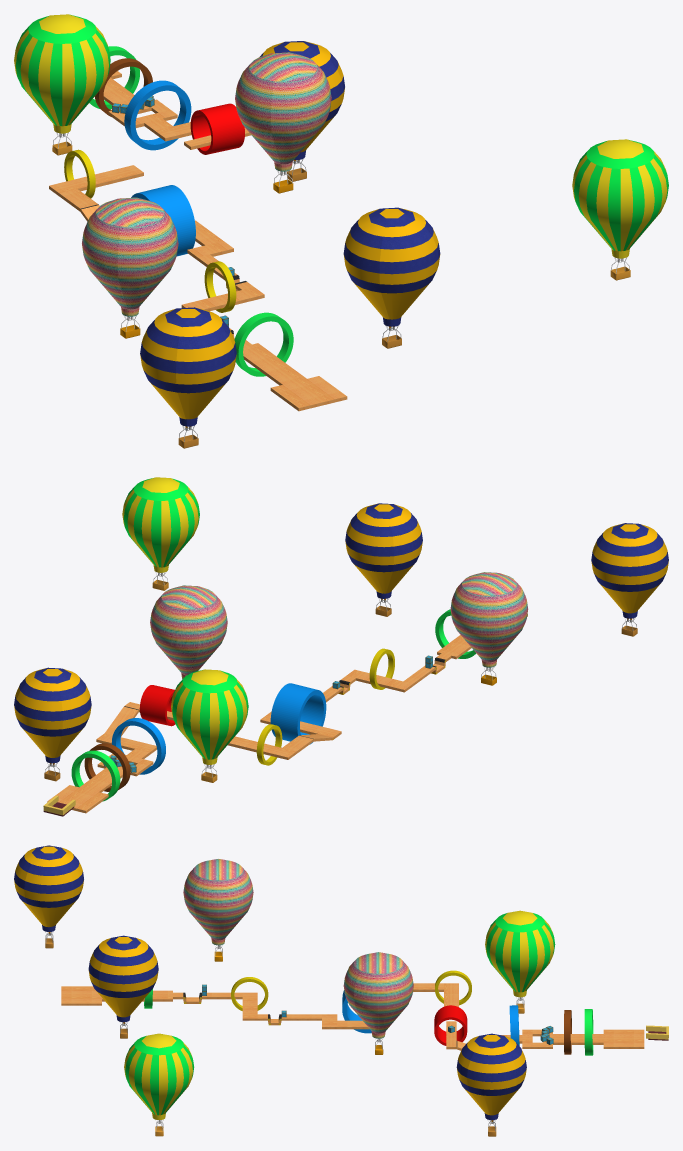
The model's file is LEVEL 9.fbx.
The picture shows the model from 3 angles, top to bottom: view 1: azimuth 30°, elevation 25°; view 2: azimuth 150°, elevation 25°; view 3: azimuth 270°, elevation 25°; orthographic projection. The views are drawn at different scales.
Visible parts, largest first — view 1: Floors_Combined, ballon_3, ballon_2, ballon_5, ballon_1, ballon_4, ballon, ballon_6, red_ring, blue_ring__1_, blue_ring, green_ring (+3 smaller); view 2: Floors_Combined, ballon_6, ballon, ballon_5, ballon_2, ballon_1, ballon_3, ballon_4, blue_ring__1_, red_ring, blue_ring, green_ring__1_ (+3 smaller); view 3: Floors_Combined, ballon, ballon_2, ballon_3, ballon_6, ballon_1, ballon_4, ballon_5, red_ring, green_ring__1_.
Part boxes in pixels (x1,y1,x2,y2): Floors_Combined: (49, 71, 347, 411); ballon_3: (82, 197, 178, 338); ballon_2: (572, 139, 668, 280); ballon_5: (14, 14, 110, 155); ballon_1: (343, 207, 440, 348); ballon_4: (235, 52, 331, 193); ballon: (140, 307, 236, 448); ballon_6: (260, 41, 344, 181); red_ring: (190, 103, 244, 154); blue_ring__1_: (131, 185, 195, 256); blue_ring: (124, 80, 191, 150); green_ring: (234, 312, 293, 376); Floors_Combined: (47, 614, 527, 813); ballon_6: (14, 667, 91, 781); ballon: (591, 523, 668, 636); ballon_5: (171, 669, 248, 782); ballon_2: (122, 477, 199, 590); ballon_1: (345, 503, 422, 616); ballon_3: (450, 572, 528, 685); ballon_4: (150, 585, 227, 678); blue_ring__1_: (270, 683, 326, 744); red_ring: (139, 685, 175, 726); blue_ring: (111, 718, 165, 774); green_ring__1_: (71, 750, 120, 801); Floors_Combined: (61, 983, 644, 1050); ballon: (14, 845, 83, 948); ballon_2: (124, 1033, 194, 1136); ballon_3: (183, 859, 253, 961); ballon_6: (456, 1033, 526, 1136); ballon_1: (88, 935, 158, 1038); ballon_4: (343, 952, 413, 1054); ballon_5: (485, 910, 555, 1013); red_ring: (434, 1005, 467, 1045); green_ring__1_: (584, 1009, 593, 1055).
Bounding box in the file's own units: 9774 × 3167 × 12915.
26 materials, 14 textured.
